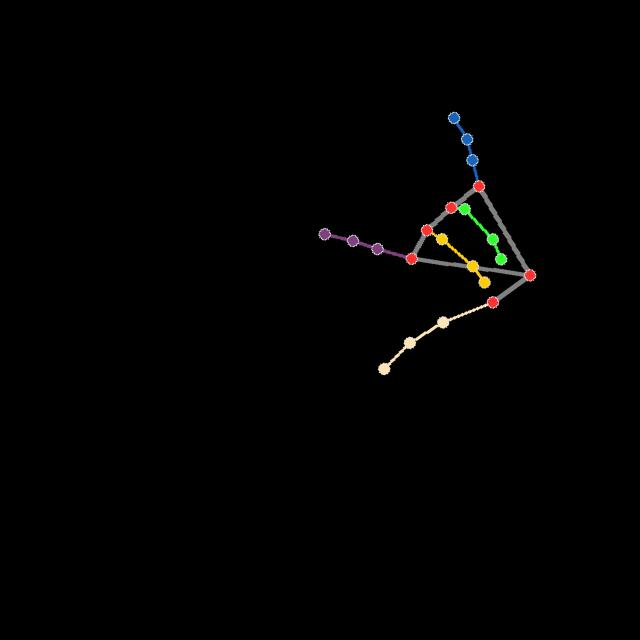spiderman: (317, 106, 541, 375)
